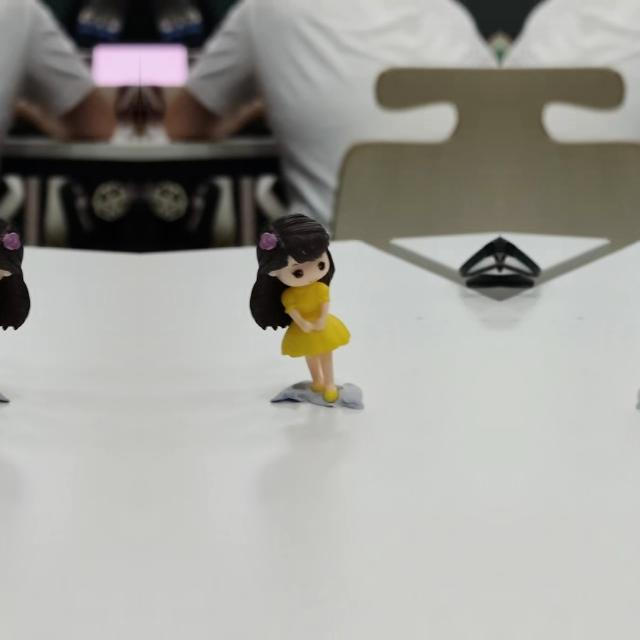woman head: (256, 213, 334, 290), (0, 213, 24, 290)
